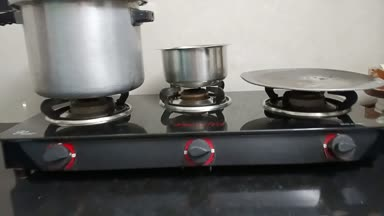flame_gas_off: (34, 93, 139, 176), (265, 87, 377, 163), (164, 82, 233, 167)
